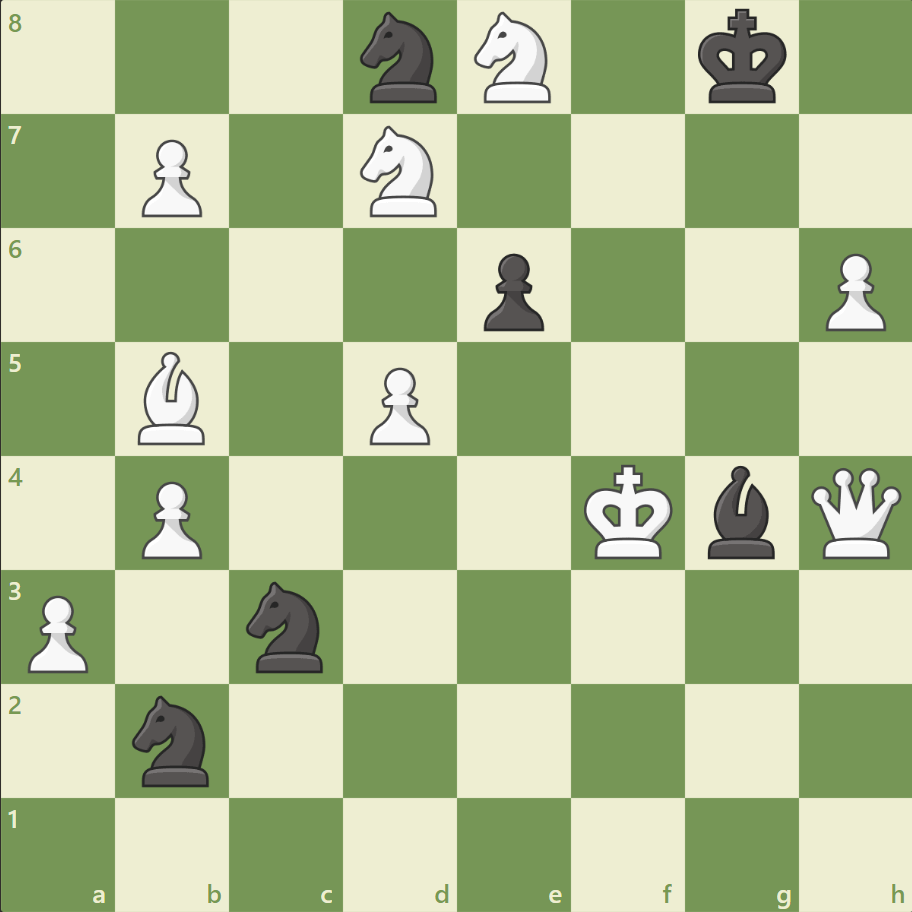B: (131, 347, 215, 449)
K: (579, 458, 679, 566)
N: (351, 121, 449, 223), (465, 7, 562, 110)
P: (133, 132, 208, 223), (133, 473, 208, 564), (20, 586, 95, 677), (815, 246, 889, 337), (361, 359, 435, 450)
Q: (805, 463, 904, 562)
b: (698, 460, 782, 563)
k: (692, 4, 792, 112)
n: (351, 7, 449, 110), (124, 688, 222, 791), (238, 575, 335, 677)
p: (474, 246, 549, 337)
